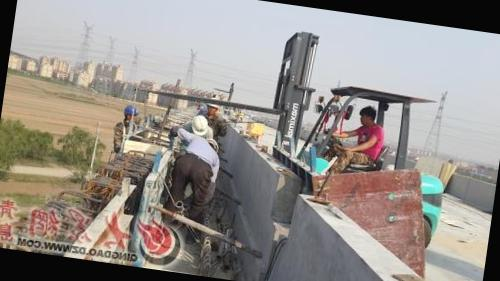no_helmet: (355, 103, 382, 128)
